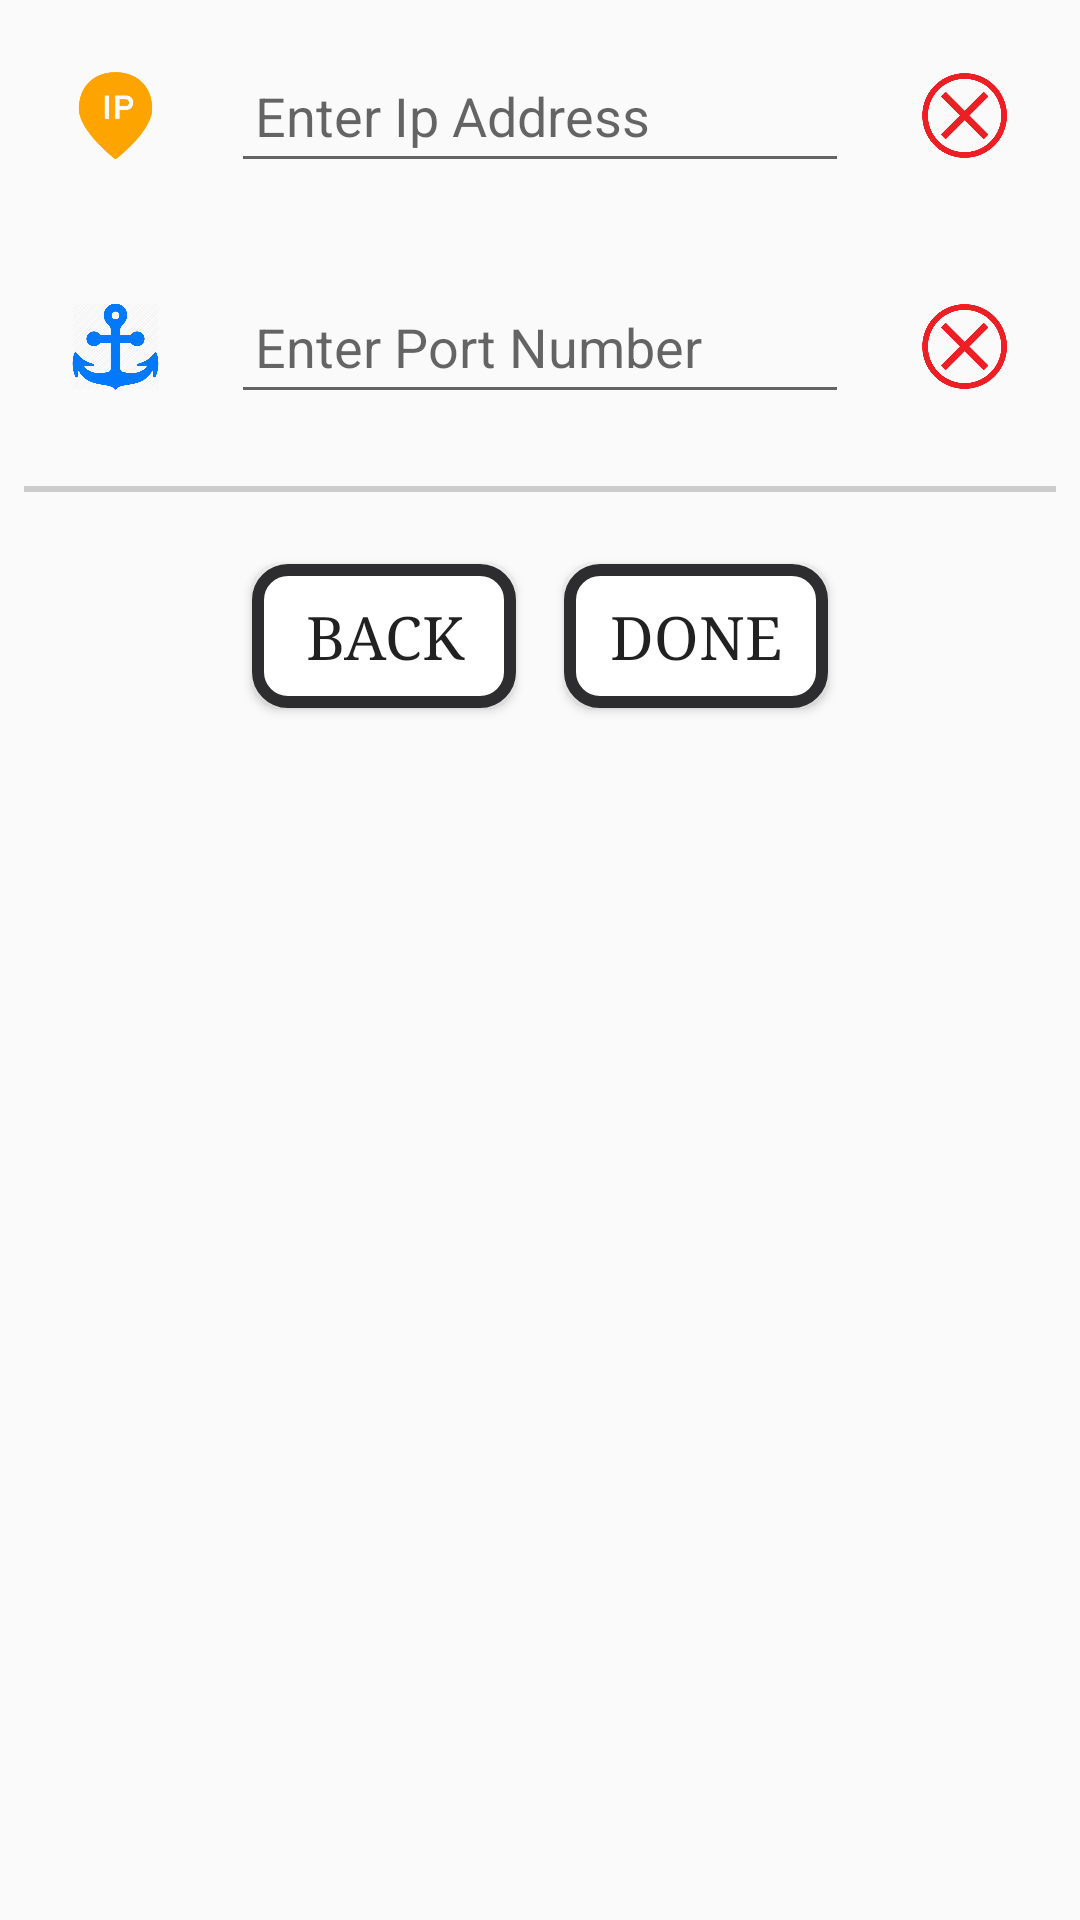

Point at icon controls on the screen. Image size 1080px×1920px, points as (x,y).
wrong: (964,115), (964,346)
